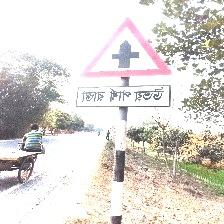Crossroad: (78, 17, 174, 109)
